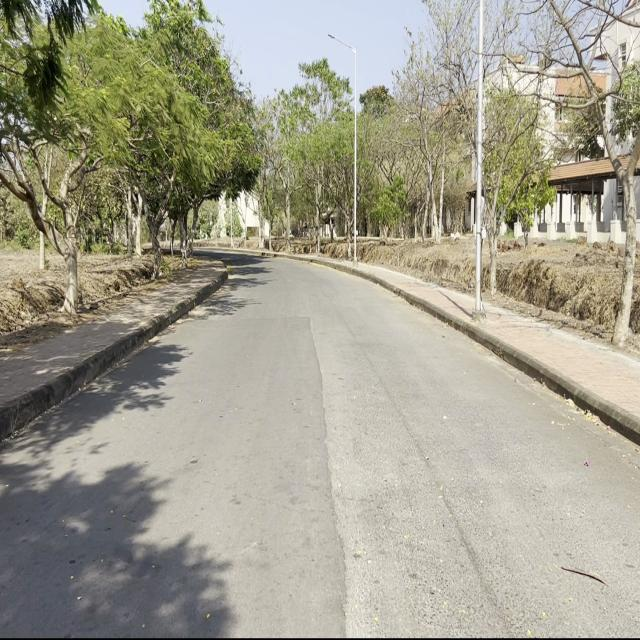Road: (0, 256, 640, 638)
